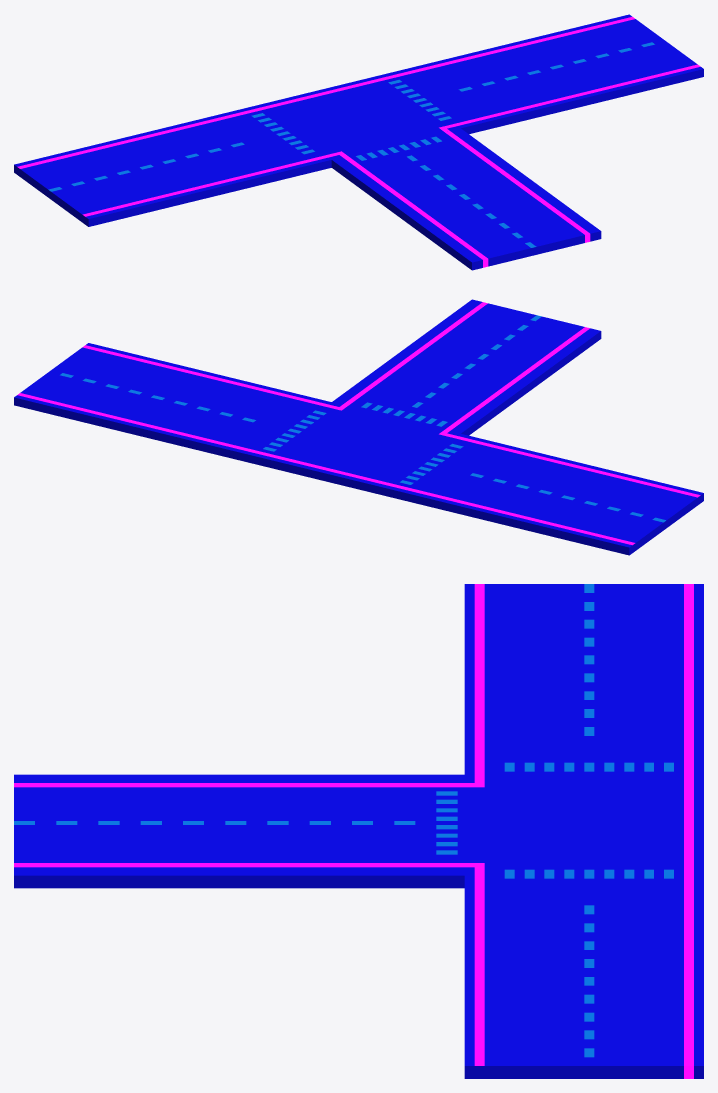
Rendered from Troad.fbx.
3 renders of one model, top to bottom at view 1: azimuth 30°, elevation 25°; view 2: azimuth 150°, elevation 25°; view 3: azimuth 270°, elevation 25°, orthographic. The views are drawn at different scales.
Visible parts, largest first — view 1: Box010; view 2: Box010; view 3: Box010.
Boxes of the visible parts, x1,y1,x2,y2 form: Box010: (14, 14, 703, 270); Box010: (14, 299, 703, 555); Box010: (14, 584, 703, 1078).
Bounding box in the file's own units: 2422 × 29.93 × 1465.
